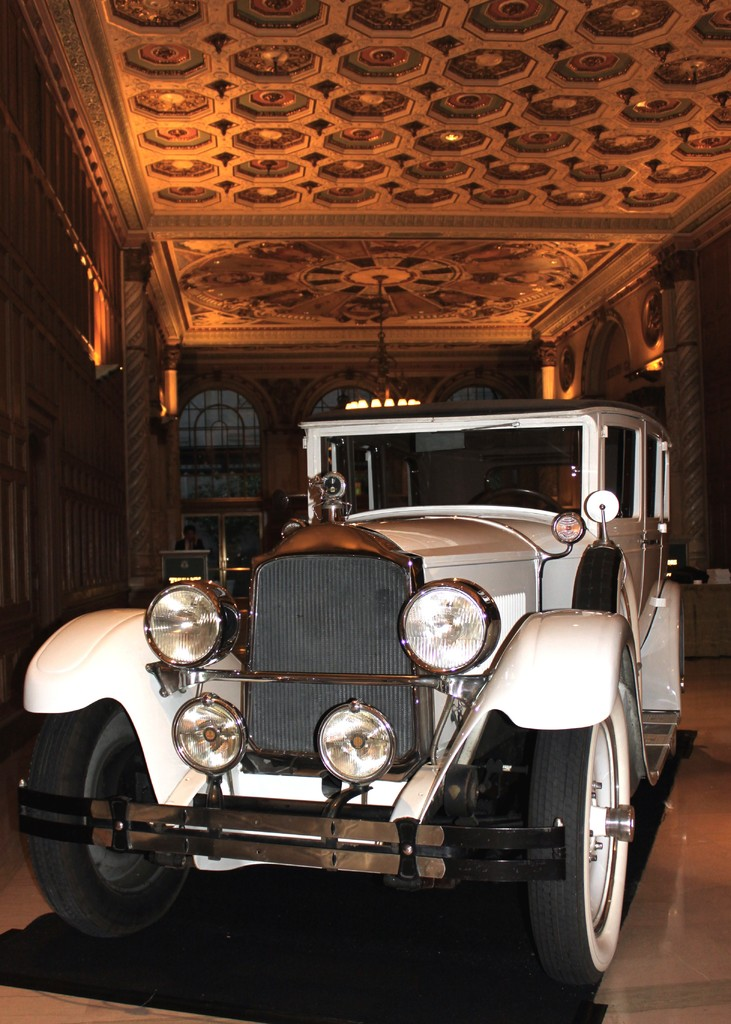Car: (7, 403, 695, 1006)
